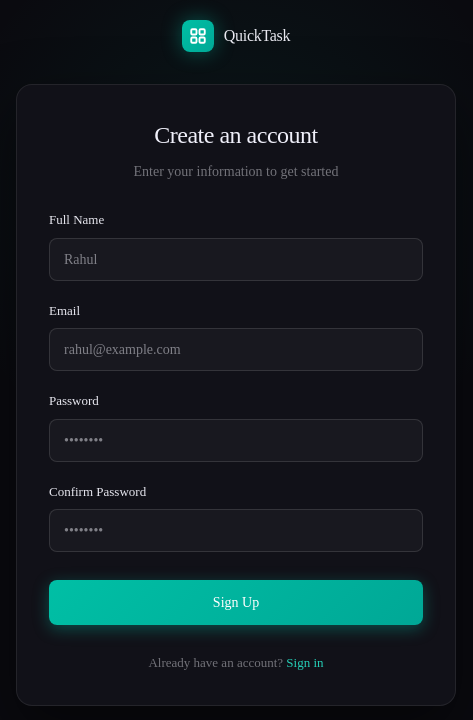
Scenario: SignupPage › should show validation error for short password
Step 1. Type "John Doe" into the field labelled "Full Name" → (236,259), box [49, 238, 423, 280]
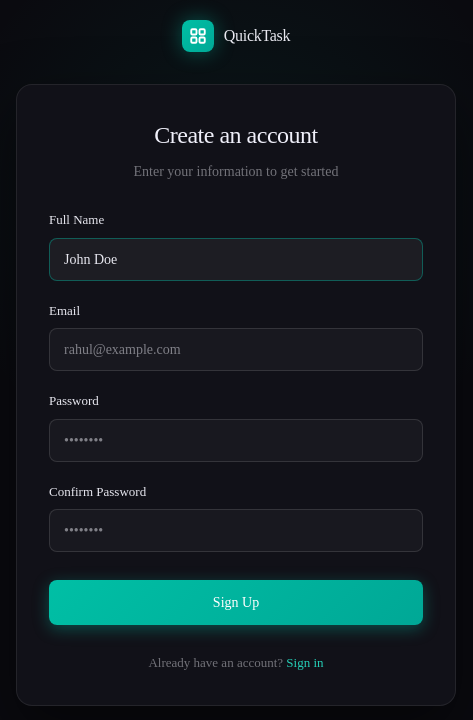
Step 2. Type "john@example.com" into the field labelled "Email" → (236,350), box [49, 328, 423, 371]
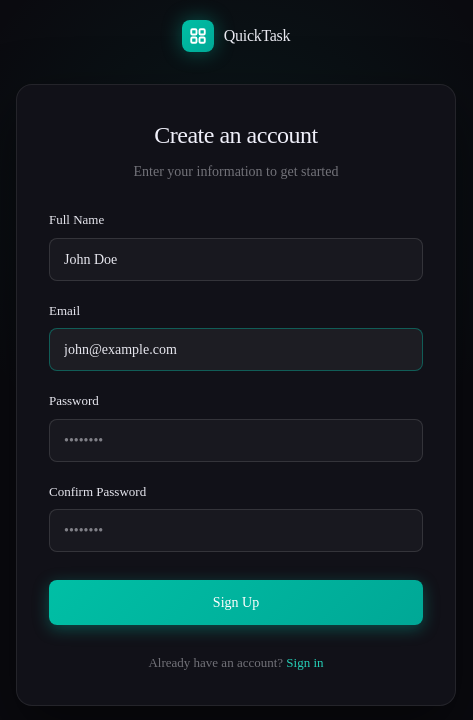
Step 3. Type "short" into the password field labelled "Password" → (236,440), box [49, 418, 423, 462]
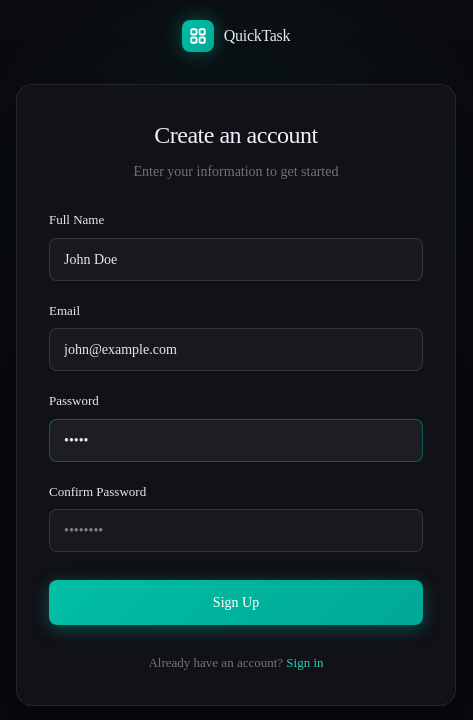
Step 4. Type "short" into the password field labelled "Confirm Password" → (236,530), box [49, 509, 423, 552]
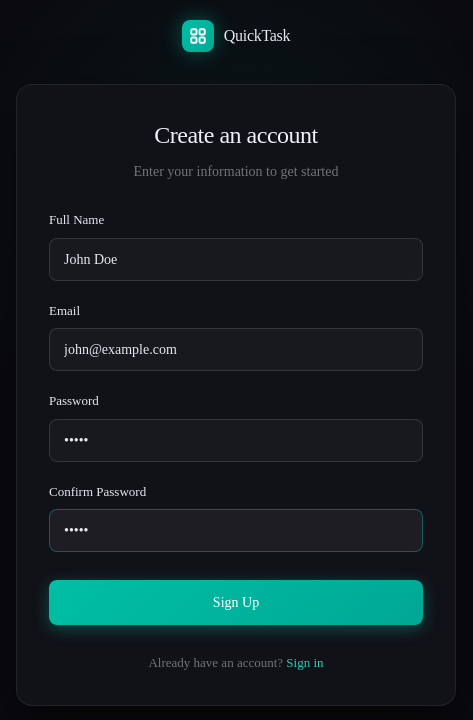
Step 5. Click the button "Sign Up" → (236,602), box [49, 580, 423, 625]
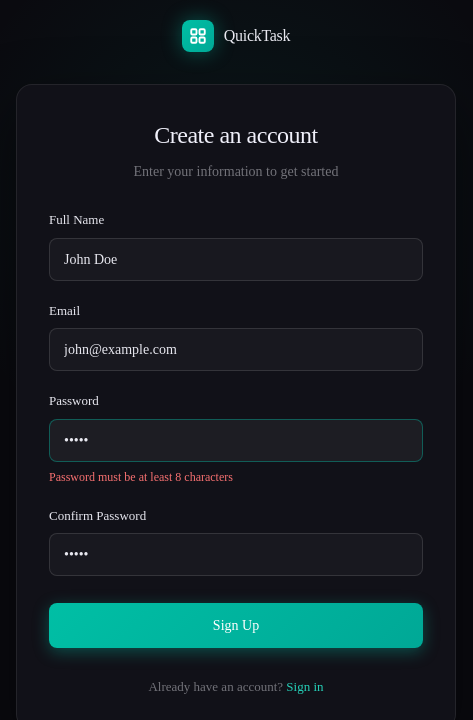
Result: the text "Password must be at least 8 characters" is shown at [49, 470, 233, 484]
